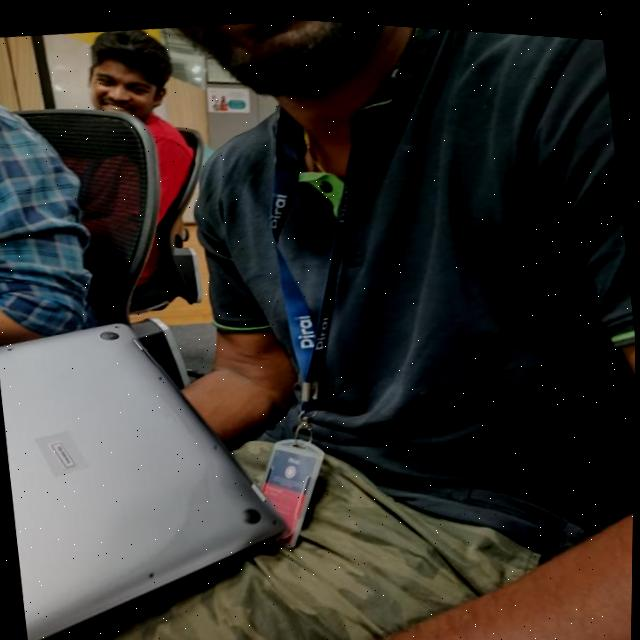id_card: (217, 79, 414, 555)
